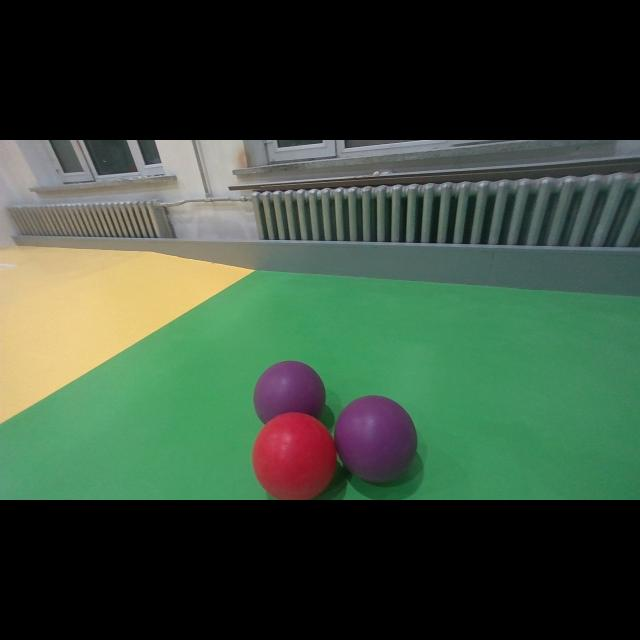P: (334, 395, 418, 483), (253, 359, 331, 431)
R: (252, 412, 336, 500)
